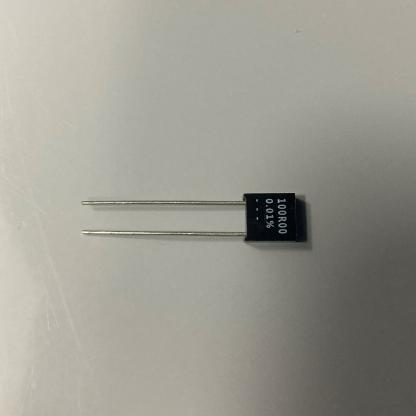SP0000007: (57, 104, 332, 308)
